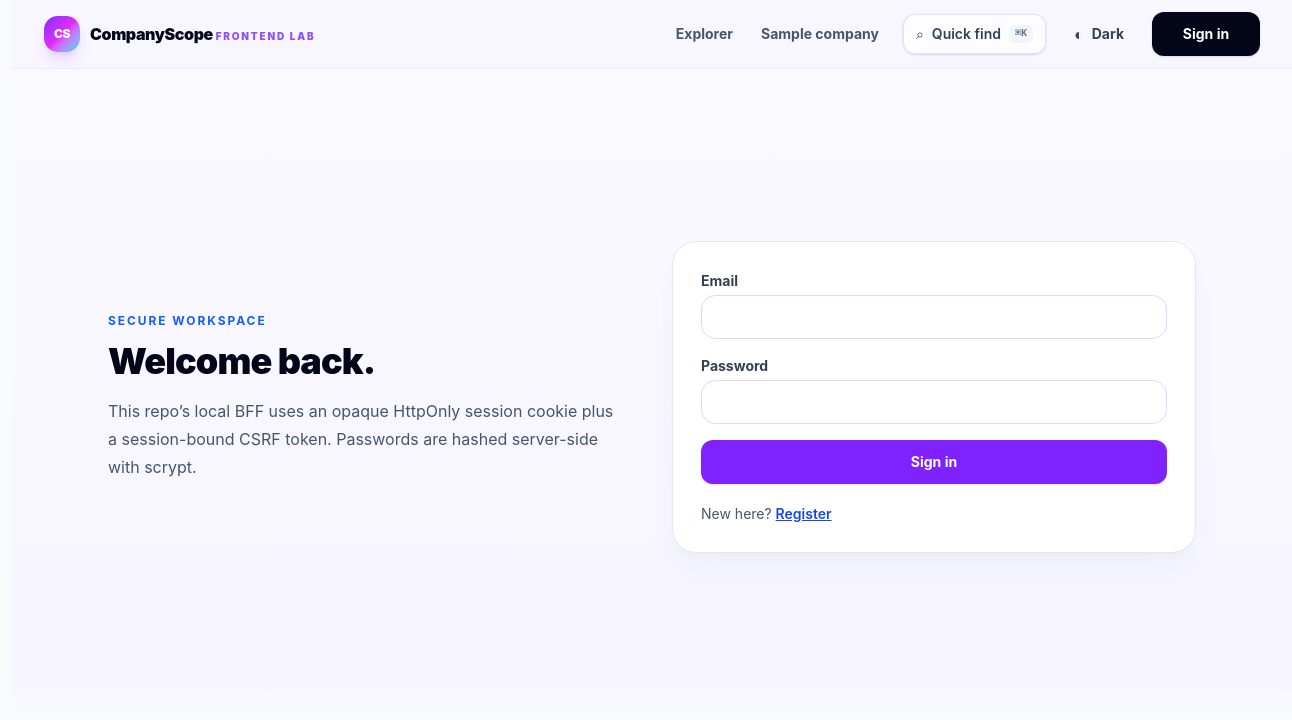
Test: AuthPage › logs in and reports API errors
In the field labelled "Email": {"x": 934, "y": 316} [701,294,1167,338], type "deniz@example.com"
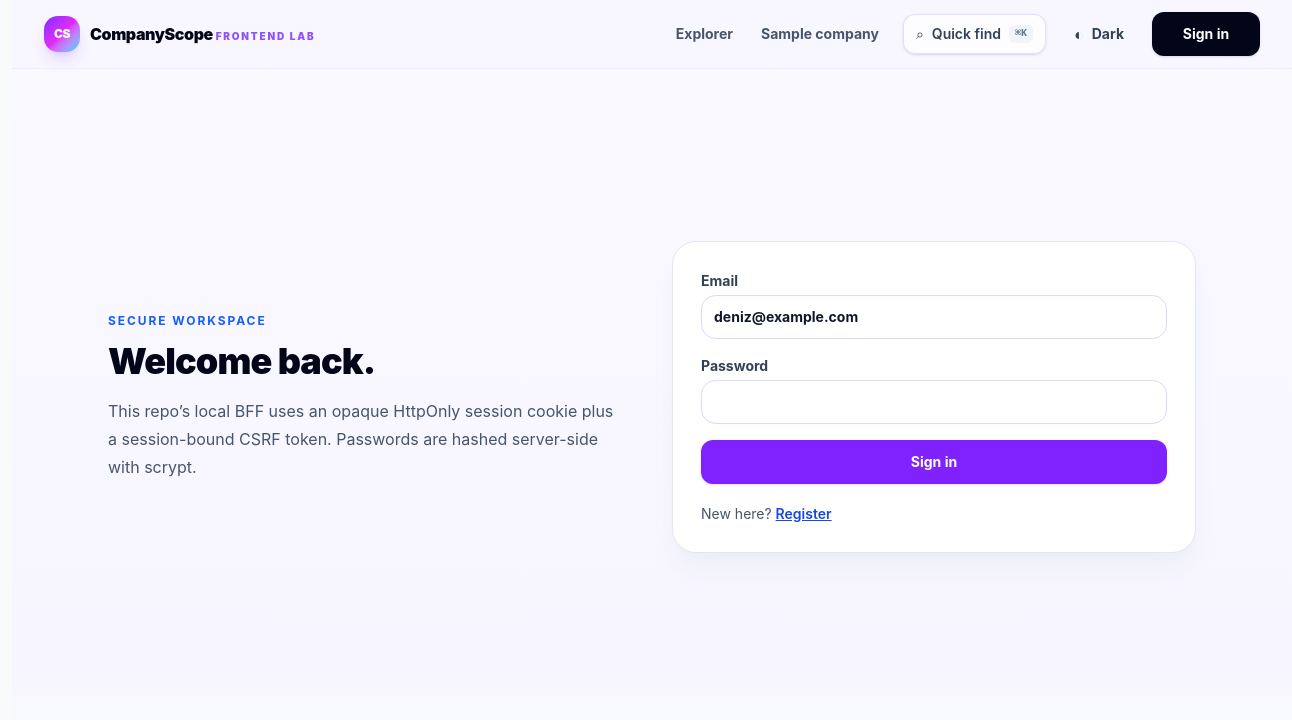
In the password field labelled "Password": {"x": 934, "y": 402} [701,380,1167,424], type "WrongPassword7"
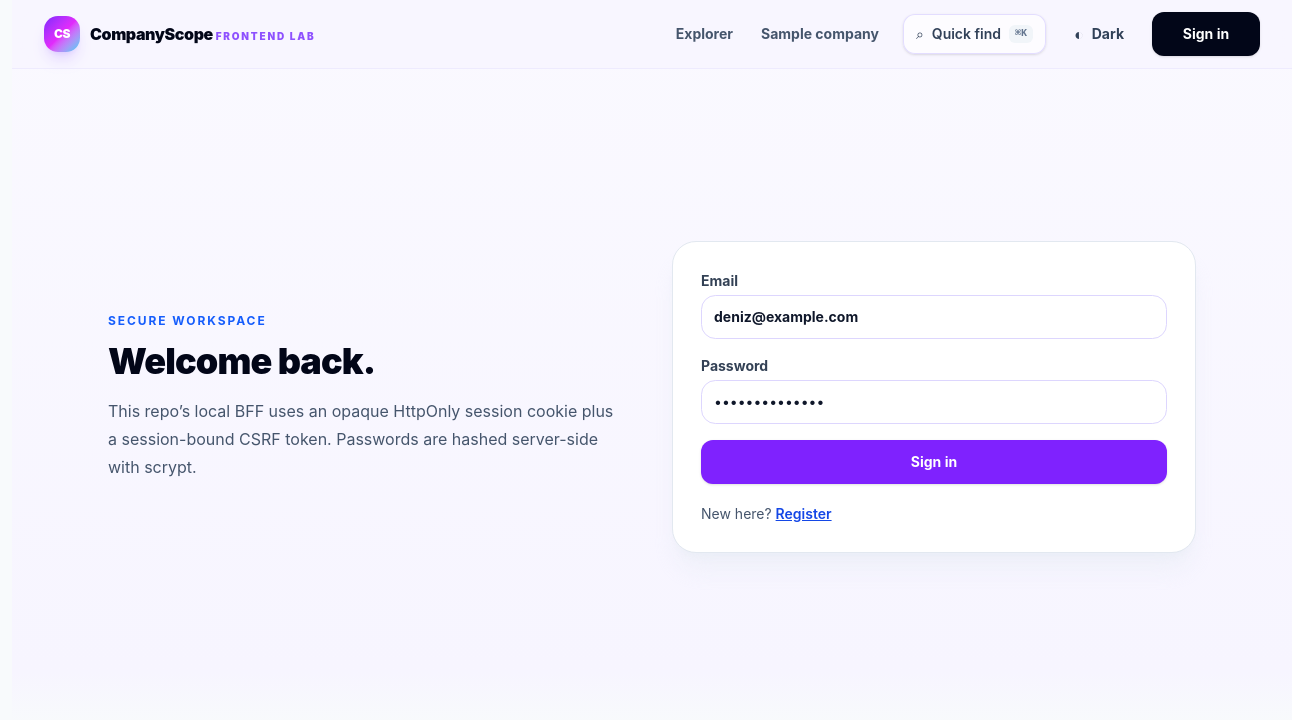
Click the button "Sign in": {"x": 934, "y": 462} [701,440,1167,484]
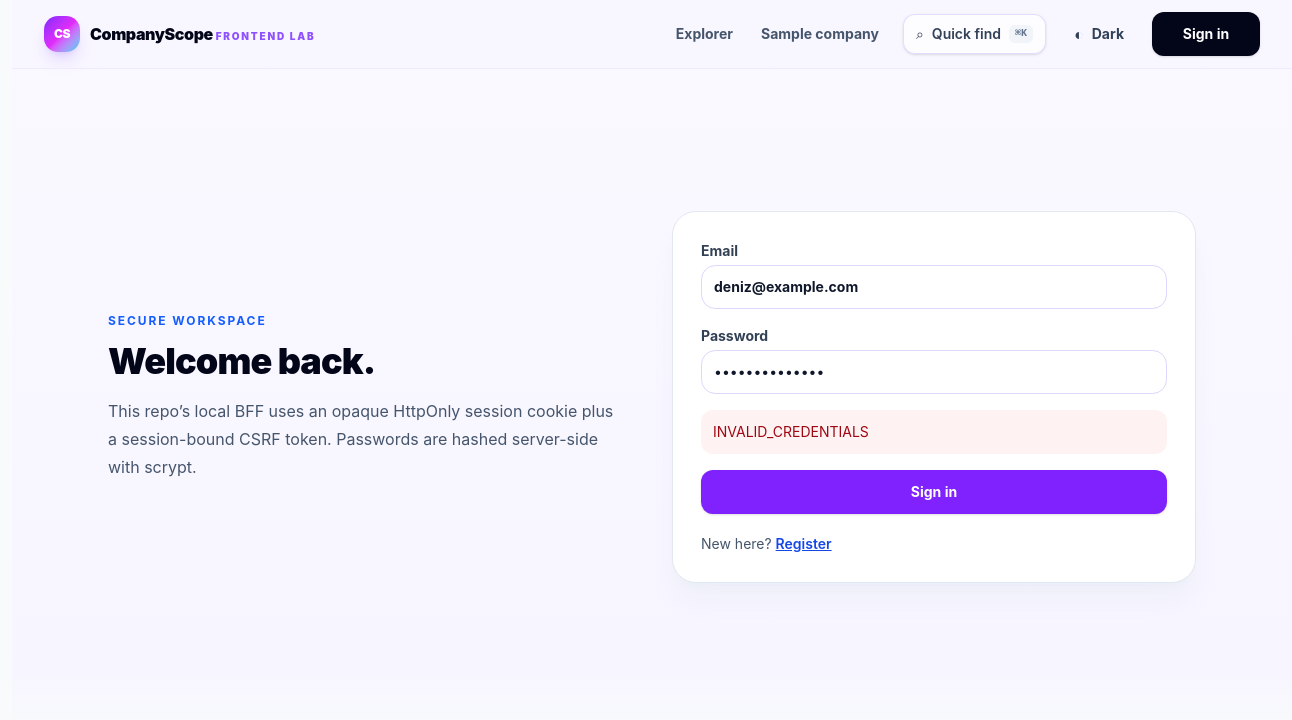
Expected: the message reads "INVALID_CREDENTIALS", [713,422,869,440]
In the password field labelled "Password": {"x": 934, "y": 372} [701,350,1167,394], type "StrongPassword7"
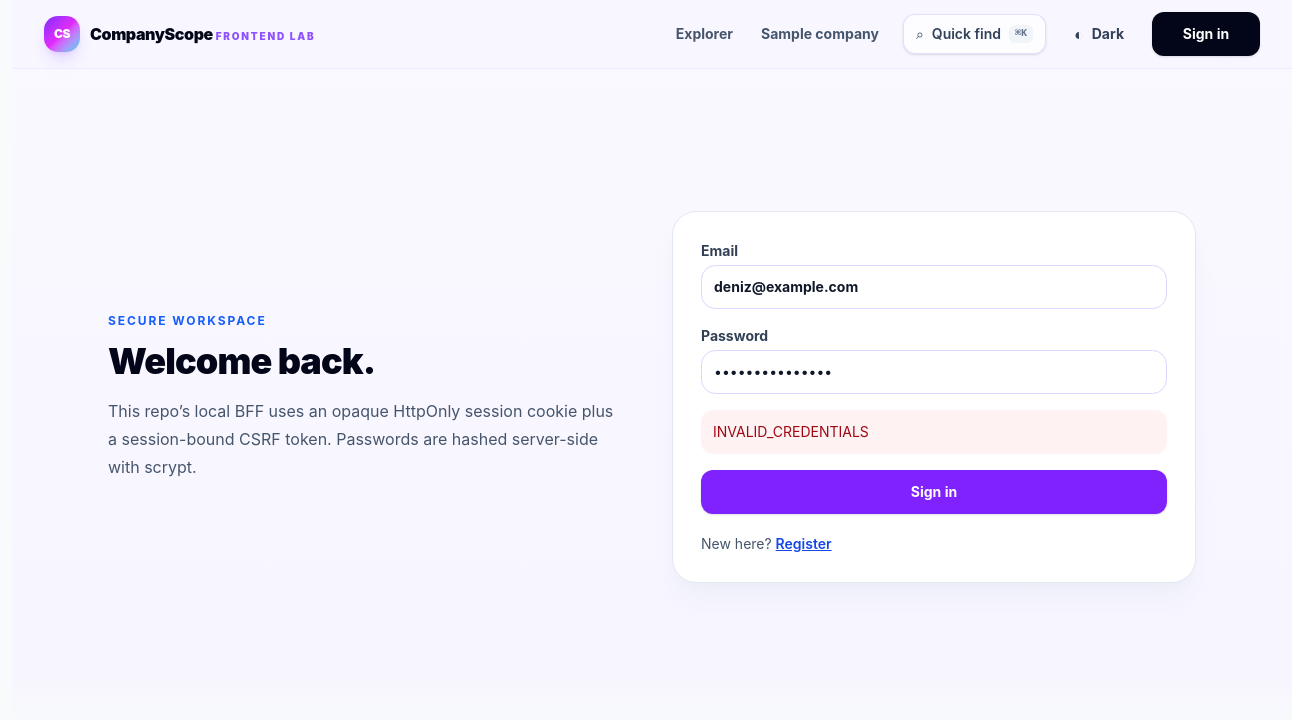
Click the button "Sign in": {"x": 934, "y": 492} [701,470,1167,514]
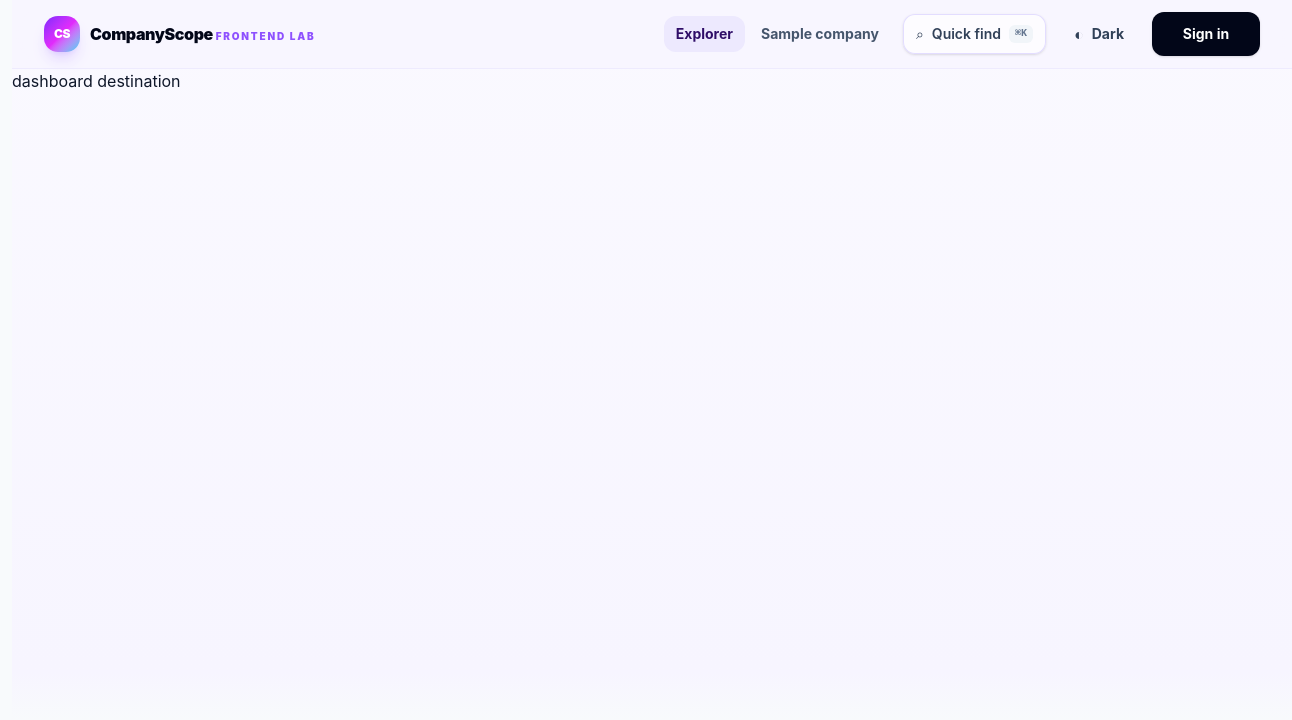
Expected: the text "dashboard destination" is shown, [12,71,180,91]
